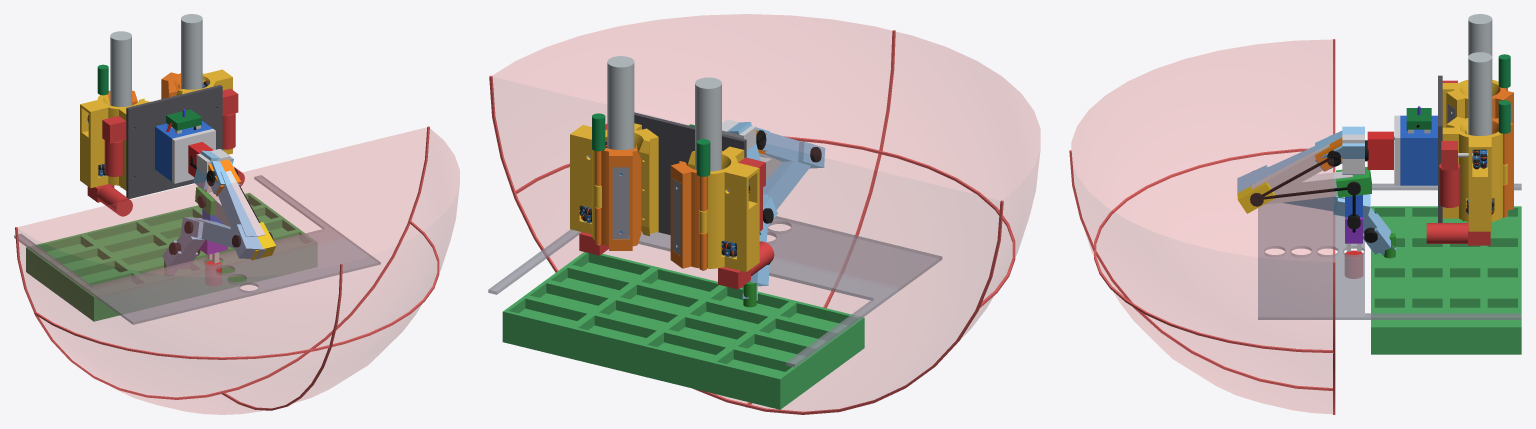
The model's file is cart-arm-v4.glb.
The picture shows the model from 3 angles, left to right: view 1: azimuth 30°, elevation 25°; view 2: azimuth 150°, elevation 25°; view 3: azimuth 270°, elevation 25°; orthographic projection. The views are drawn at different scales.
Visible parts, largest first — view 1: reach_envelope, seedling_tray, store_lid_patch, base_plate, hand_on_pipe_B_sleeve, reach_ring_across, reach_ring_on_lid, track_pipe_C, track_pipe_B, arm_pick_D1_base_plate, battery, ghost_arm_cell_A2_upper_arm (+16 smaller); view 2: reach_envelope, seedling_tray, store_lid_patch, hand_on_pipe_B_sleeve, hand_on_pipe_C_sleeve, hand_on_pipe_C_jaw, hand_on_pipe_B_jaw, base_plate, track_pipe_C, reach_ring_across, track_pipe_B, reach_ring_on_lid (+6 smaller); view 3: reach_envelope, seedling_tray, store_lid_patch, hand_on_pipe_C_sleeve, battery, track_pipe_C, reach_ring_on_lid, reach_ring_towards_store, arm_pick_D1_forearm, arm_pick_D1_upper_arm, arm_pick_D1_servo_A_base, hand_on_pipe_B_sleeve (+18 smaller).
Boxes of the visible parts, x1=… form: reach_envelope: x1=17, y1=127, x2=459, y2=414; seedling_tray: x1=26, y1=192, x2=316, y2=321; store_lid_patch: x1=14, y1=175, x2=380, y2=324; base_plate: x1=126, y1=85, x2=222, y2=198; hand_on_pipe_B_sleeve: x1=80, y1=94, x2=150, y2=190; reach_ring_across: x1=15, y1=126, x2=429, y2=399; reach_ring_on_lid: x1=34, y1=221, x2=439, y2=359; track_pipe_C: x1=181, y1=14, x2=202, y2=89; track_pipe_B: x1=110, y1=31, x2=131, y2=106; arm_pick_D1_base_plate: x1=172, y1=129, x2=215, y2=183; battery: x1=155, y1=121, x2=212, y2=181; ghost_arm_cell_A2_upper_arm: x1=218, y1=171, x2=257, y2=236; reach_envelope: x1=492, y1=14, x2=1040, y2=411; seedling_tray: x1=502, y1=252, x2=864, y2=409; store_lid_patch: x1=488, y1=216, x2=942, y2=367; hand_on_pipe_B_sleeve: x1=688, y1=146, x2=759, y2=272; hand_on_pipe_C_sleeve: x1=570, y1=123, x2=658, y2=240; hand_on_pipe_C_jaw: x1=595, y1=147, x2=641, y2=250; hand_on_pipe_B_jaw: x1=670, y1=161, x2=707, y2=270; base_plate: x1=634, y1=112, x2=746, y2=234; track_pipe_C: x1=607, y1=56, x2=634, y2=149; reach_ring_across: x1=489, y1=75, x2=1003, y2=414; track_pipe_B: x1=695, y1=77, x2=721, y2=268; reach_ring_on_lid: x1=515, y1=136, x2=1015, y2=308; reach_envelope: x1=1071, y1=39, x2=1333, y2=413; seedling_tray: x1=1371, y1=206, x2=1521, y2=354; store_lid_patch: x1=1258, y1=183, x2=1521, y2=319; hand_on_pipe_C_sleeve: x1=1442, y1=117, x2=1507, y2=231; battery: x1=1400, y1=115, x2=1437, y2=185; track_pipe_C: x1=1468, y1=52, x2=1492, y2=163; reach_ring_on_lid: x1=1094, y1=148, x2=1333, y2=353; reach_ring_towards_store: x1=1069, y1=150, x2=1332, y2=390; arm_pick_D1_forearm: x1=1264, y1=171, x2=1352, y2=204; arm_pick_D1_upper_arm: x1=1252, y1=144, x2=1329, y2=194; arm_pick_D1_servo_A_base: x1=1367, y1=131, x2=1393, y2=169; hand_on_pipe_B_sleeve: x1=1442, y1=79, x2=1498, y2=127.
Size of the model in its own units: 703 by 517 by 601.
